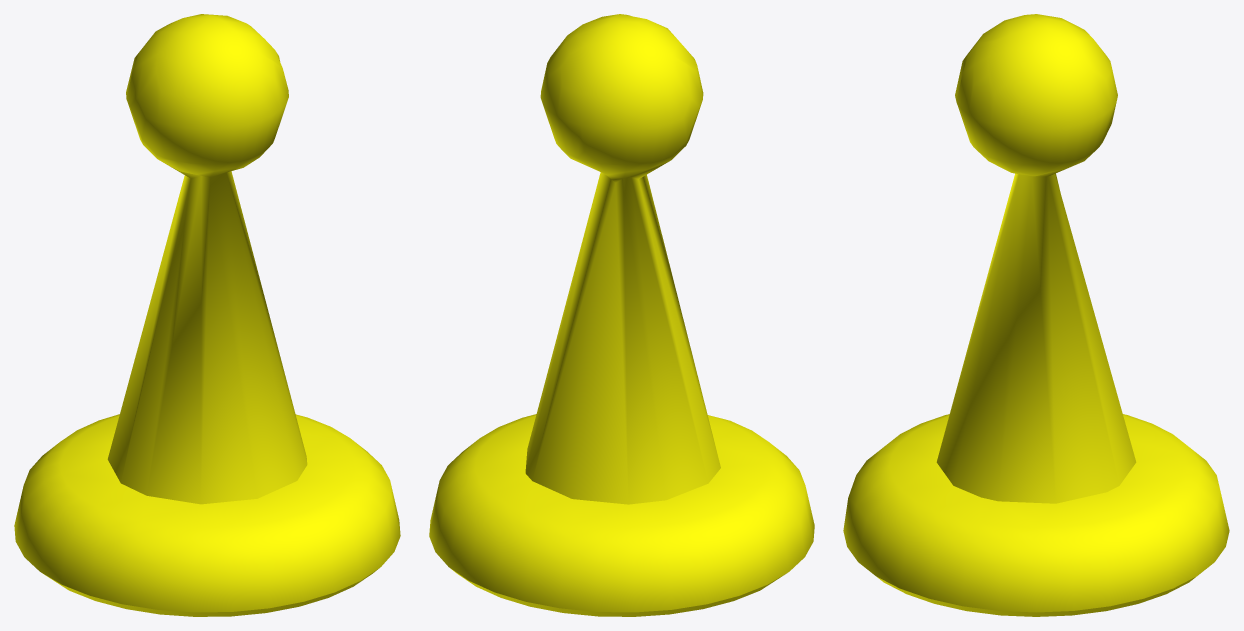
The model's file is FichaPlayer_Amarillo.glb.
3 renders of one model, left to right at view 1: azimuth 30°, elevation 25°; view 2: azimuth 150°, elevation 25°; view 3: azimuth 270°, elevation 25°, orthographic.
Parts seen in each view (by area): view 1: prim0; view 2: prim0; view 3: prim0.
Part boxes in pixels (x1,y1,x2,y2): prim0: (14, 14, 400, 616); prim0: (429, 14, 814, 616); prim0: (843, 14, 1229, 616).
Bounding box in the file's own units: 1.72 × 2.55 × 1.72.
